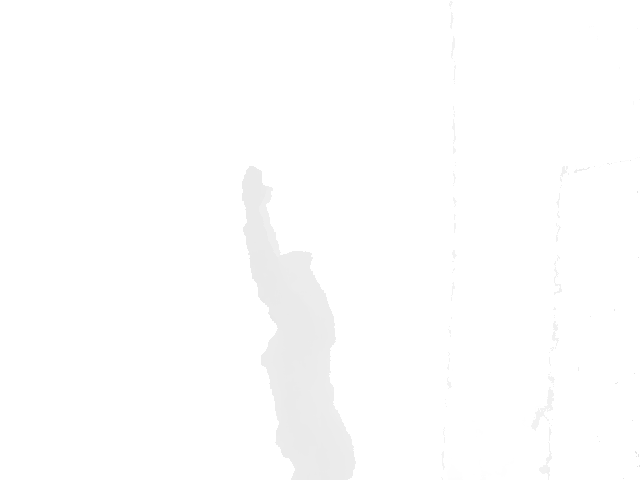hand: (240, 165, 273, 205)
head: (252, 249, 319, 313)
person: (240, 165, 358, 480)
